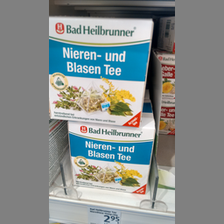tea: (49, 14, 155, 128), (66, 121, 154, 194)
